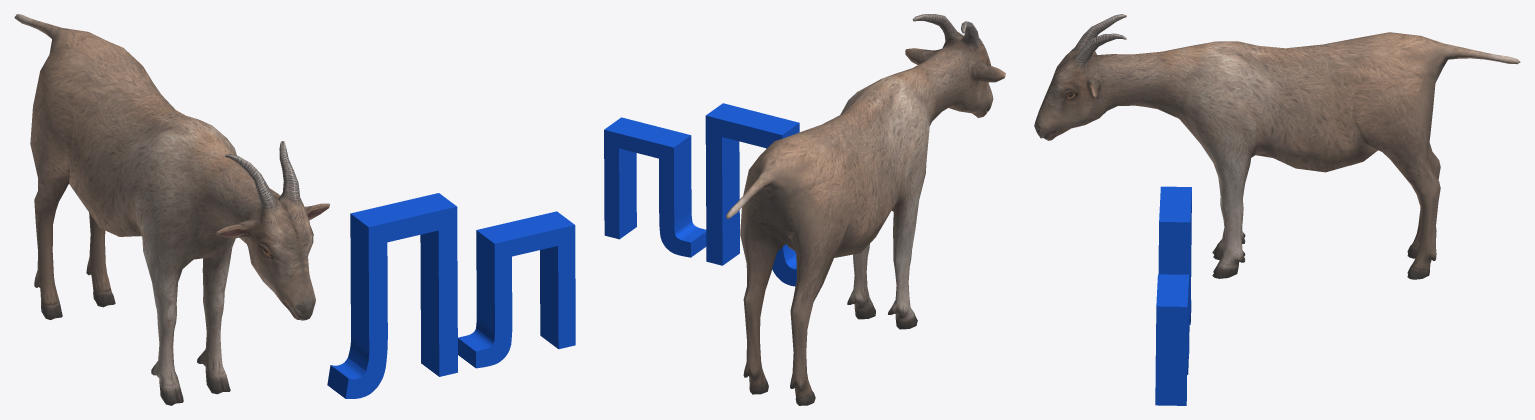
The picture shows the model from 3 angles, left to right: view 1: azimuth 30°, elevation 25°; view 2: azimuth 150°, elevation 25°; view 3: azimuth 270°, elevation 25°; orthographic projection. The views are drawn at different scales.
Parts seen in each view (by area): view 1: goat, Mesh_0.015; view 2: goat, Mesh_0.015; view 3: goat, Mesh_0.015.
Part boxes in pixels (x1,y1,x2,y2): goat: (14, 14, 329, 405); Mesh_0.015: (327, 193, 575, 398); goat: (726, 14, 1005, 405); Mesh_0.015: (604, 103, 799, 286); goat: (1034, 14, 1520, 279); Mesh_0.015: (1155, 186, 1191, 405).
Bounding box in the file's own units: 34.29 × 24.68 × 44.12.
Materials: 2 (1 with a texture image).
